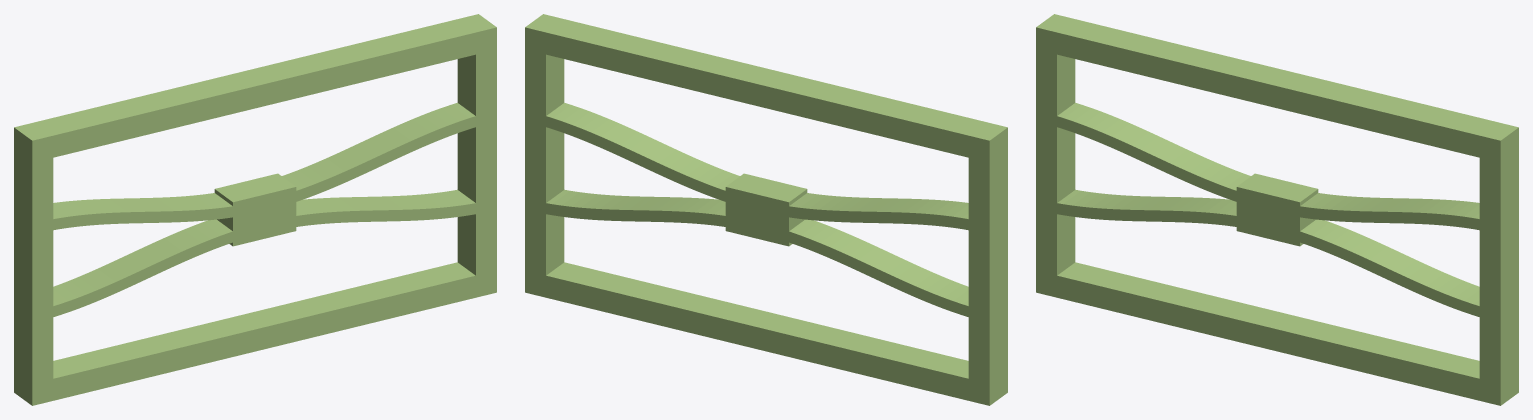
Rendered from bistable_beam_demo.glb.
3 renders of one model, left to right at view 1: azimuth 30°, elevation 25°; view 2: azimuth 150°, elevation 25°; view 3: azimuth 330°, elevation 25°, orthographic.
Parts seen in each view (by area): view 1: bistable_switch; view 2: bistable_switch; view 3: bistable_switch.
Boxes of the visible parts, x1,y1,x2,y2 form: bistable_switch: [14, 14, 496, 405]; bistable_switch: [525, 14, 1007, 405]; bistable_switch: [1036, 14, 1518, 405].
Bounding box in the file's own units: 44 × 24 × 3.
